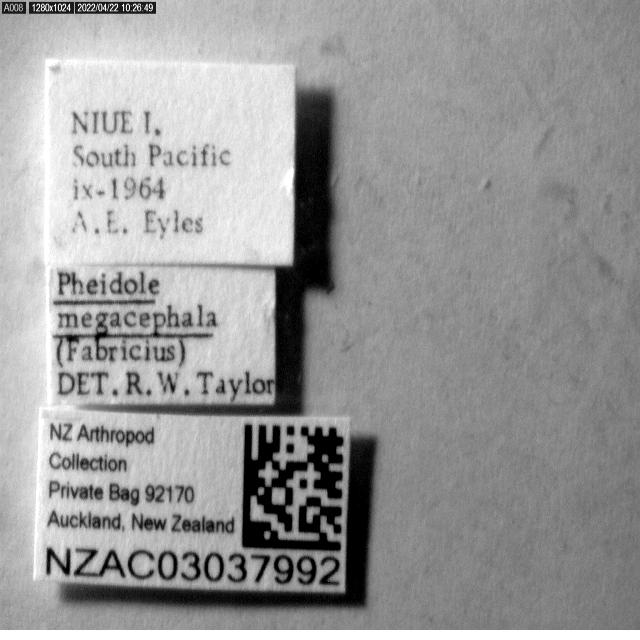typed_label: (35, 408, 350, 594), (46, 61, 295, 266), (48, 266, 275, 405)
